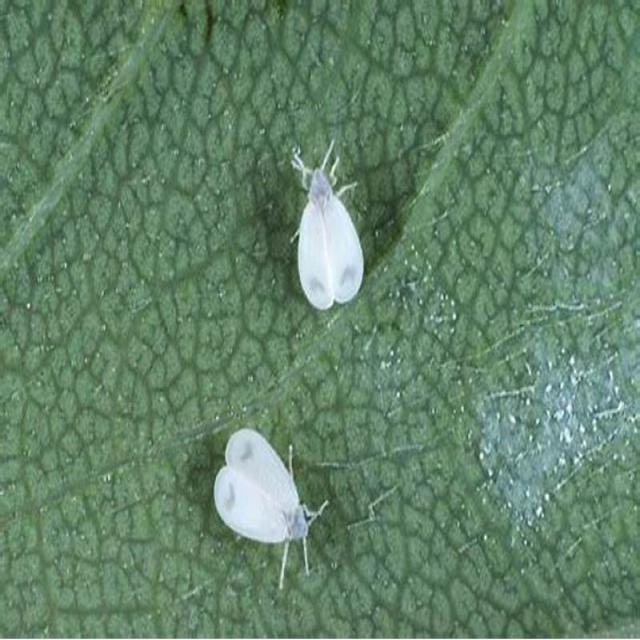Whitefly: (206, 419, 345, 586), (284, 128, 379, 328)
